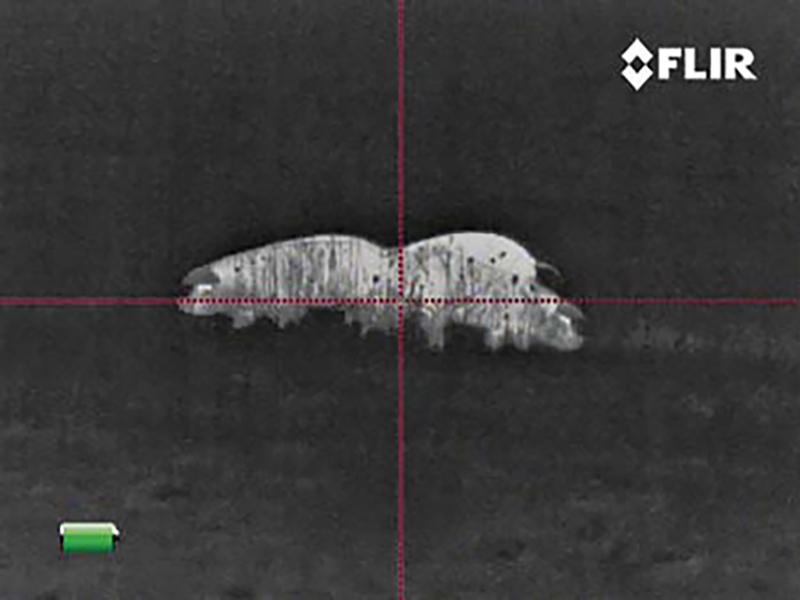cinghiale: (377, 222, 596, 374), (169, 245, 399, 331)
